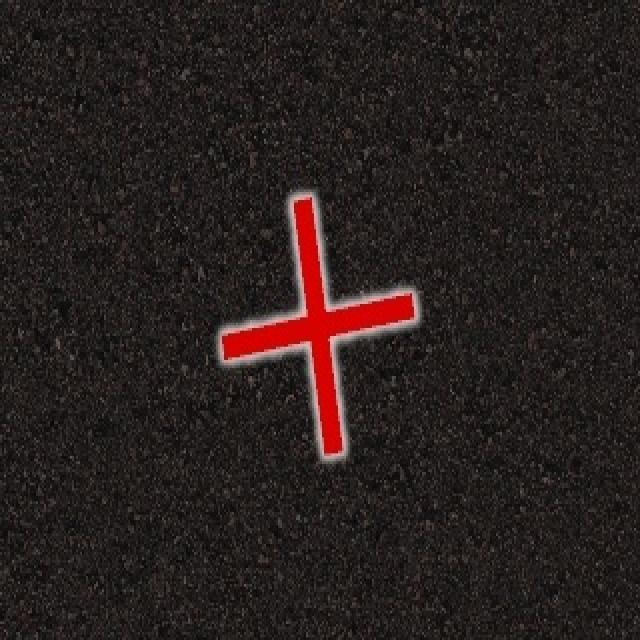x_marker: (221, 196, 415, 455)
